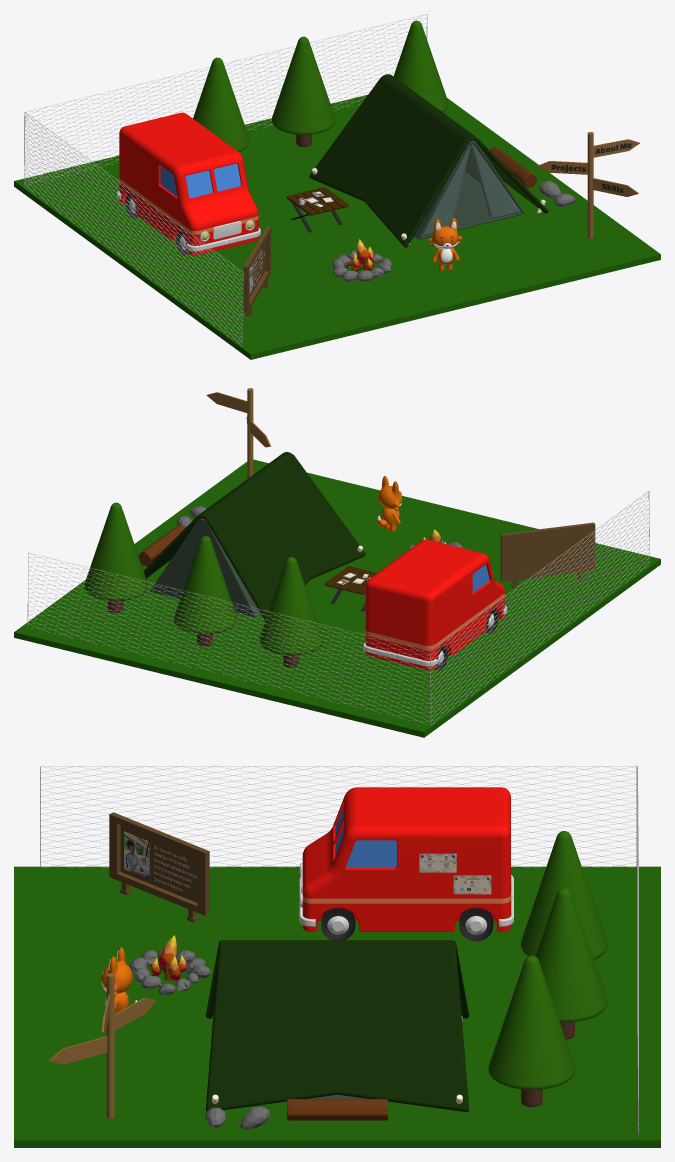
Rendered from 3Dportfolio16.glb.
3 views of the same model, one above another, from view 1: azimuth 30°, elevation 25°; view 2: azimuth 150°, elevation 25°; view 3: azimuth 270°, elevation 25° (orthographic). The views are drawn at different scales.
Parts seen in each view (by area): view 1: Plane, Cube.001, Circle, Plane.001, Plane.002, Cylinder.006, Cylinder.008, Cube, Cylinder.004, Plane.006, Cube.003, Cube.002 (+5 smaller); view 2: Plane, Cube.001, Circle, Plane.002, Plane.001, Cube.003, Cylinder.008, Cylinder.006, Cylinder.004, Cube, Cube.002, Cylinder.002 (+3 smaller); view 3: Plane, Cube.001, Circle, Plane.001, Cylinder.004, Cube.003, Cylinder.006, Cylinder.008, Cylinder.002, skill, Cylinder, portfolio_photo (+7 smaller).
Boxes of the visible parts, <box> form: Plane: <box>14,94,660,359</box>; Cube.001: <box>309,74,548,247</box>; Circle: <box>119,112,258,255</box>; Plane.001: <box>24,112,243,346</box>; Plane.002: <box>24,14,427,186</box>; Cylinder.006: <box>271,36,335,134</box>; Cylinder.008: <box>193,57,249,151</box>; Cube: <box>414,140,524,239</box>; Cylinder.004: <box>393,20,448,112</box>; Plane.006: <box>422,144,520,236</box>; Cube.003: <box>243,226,270,316</box>; Cube.002: <box>286,187,348,215</box>; Plane: <box>14,459,660,737</box>; Cube.001: <box>143,452,365,620</box>; Circle: <box>365,539,504,670</box>; Plane.002: <box>27,552,430,725</box>; Plane.001: <box>430,491,649,725</box>; Cube.003: <box>500,522,595,588</box>; Cylinder.008: <box>259,557,323,655</box>; Cylinder.006: <box>173,536,237,634</box>; Cylinder.004: <box>84,502,147,600</box>; Cube: <box>150,518,260,617</box>; Cube.002: <box>324,566,376,594</box>; Cylinder.002: <box>138,525,184,565</box>; Plane: <box>14,866,660,1147</box>; Cube.001: <box>205,940,469,1111</box>; Circle: <box>302,787,510,931</box>; Plane.001: <box>40,766,637,867</box>; Cylinder.004: <box>488,955,575,1089</box>; Cube.003: <box>109,812,209,922</box>; Cylinder.006: <box>535,888,607,1022</box>; Cylinder.008: <box>520,831,607,959</box>; Cylinder.002: <box>287,1099,387,1120</box>; skill: <box>419,853,491,894</box>; Cylinder: <box>106,973,114,1118</box>; portfolio_photo: <box>124,831,149,879</box>.
Bounding box in the file's own units: 10.28 × 2.64 × 10.
44 materials, 7 textured.
